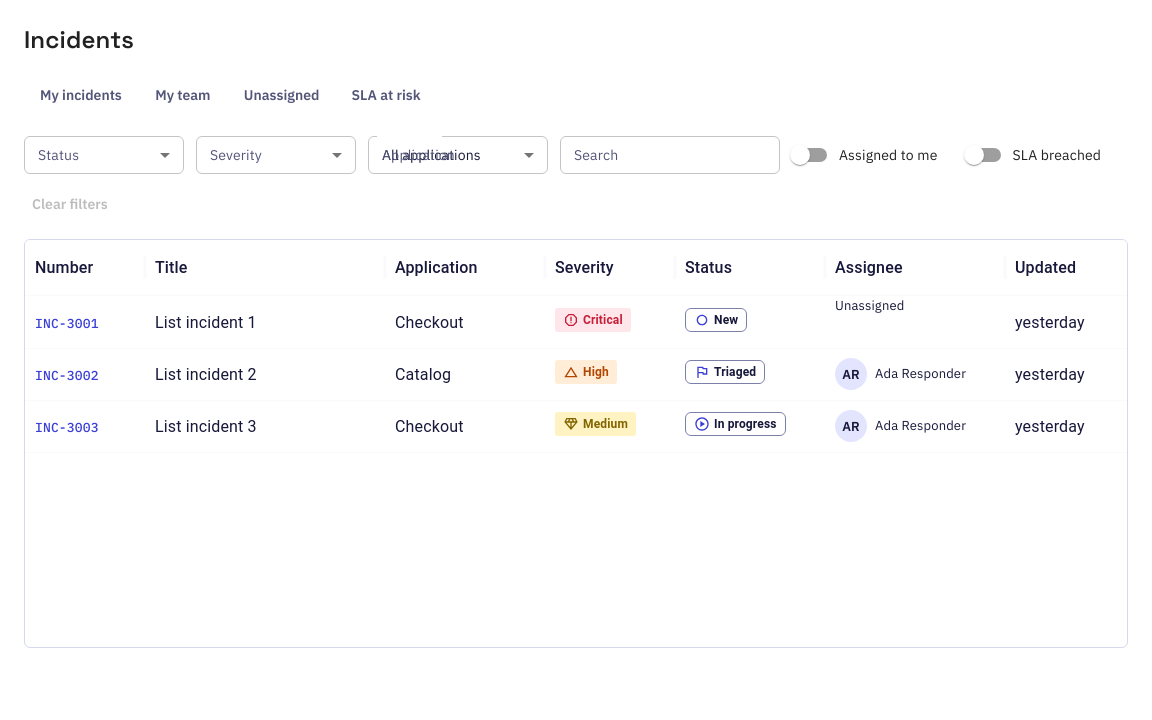
Scenario: FilterBar › retyping the same text right after Clear applies it again
The image size is (1152, 720).
Expected: the table named "Incidents" is shown, [25, 240, 1127, 646]
Step 1. Click the search field labelled "Search" → (670, 155), box [560, 136, 780, 174]
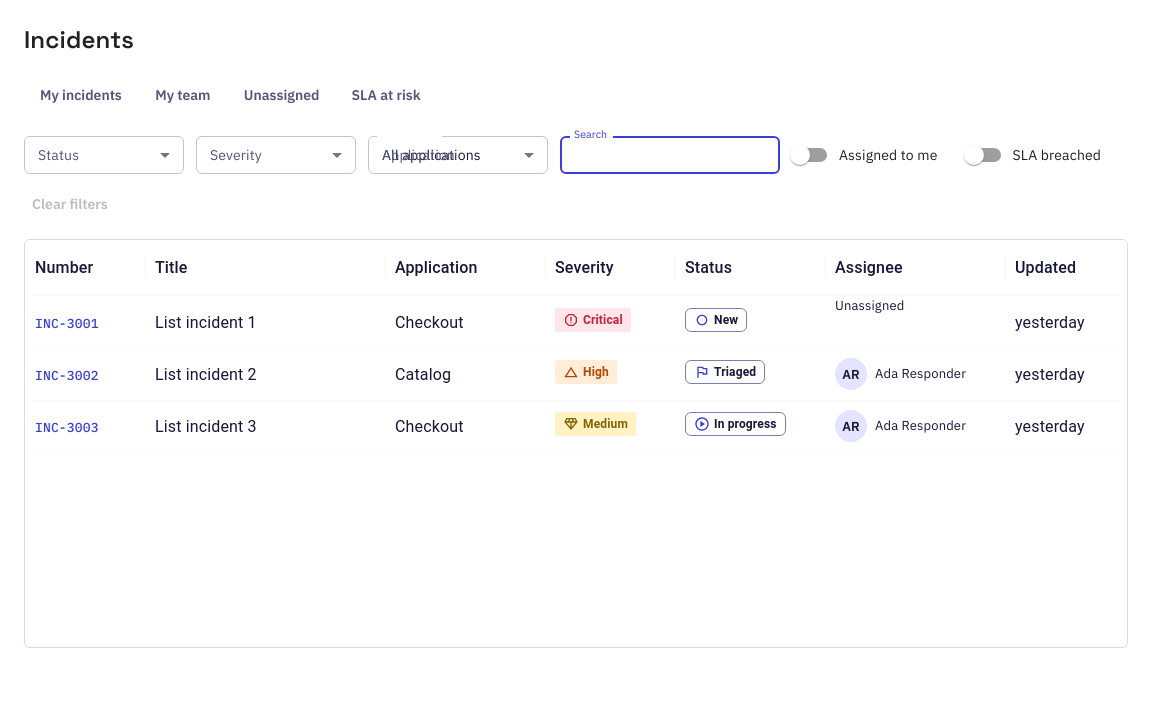
Step 2. Type keys "abc"
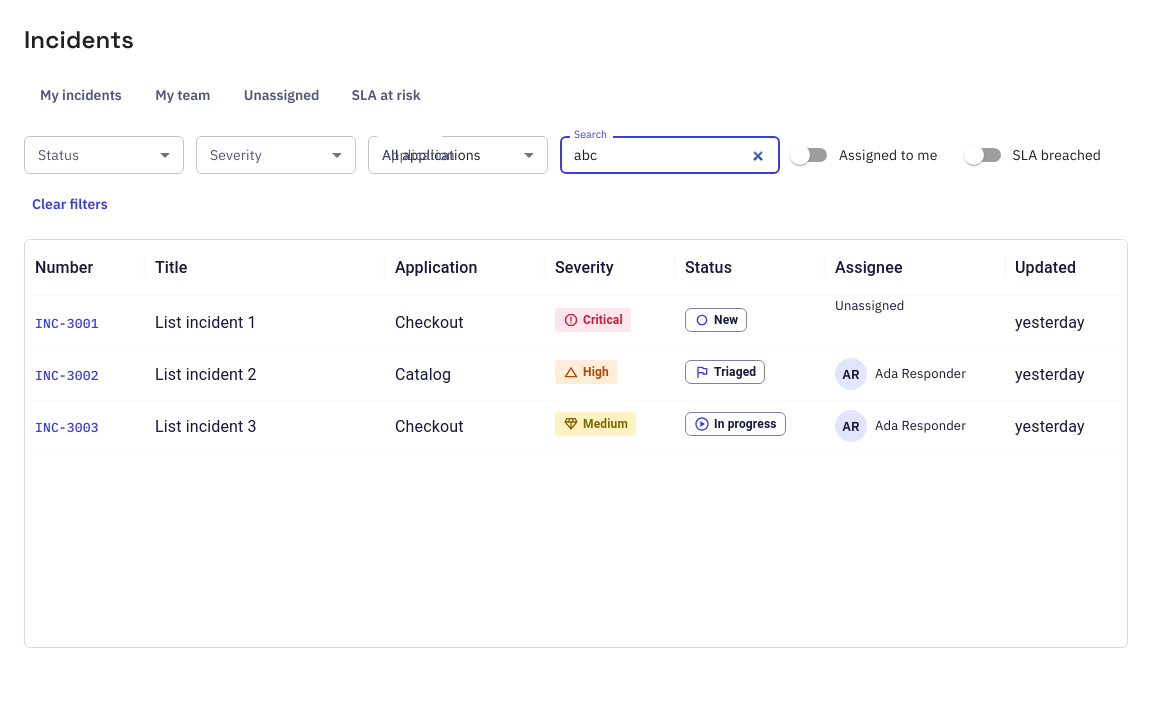
Step 3. Click the button "Clear filters" → (70, 204), box [24, 186, 116, 222]
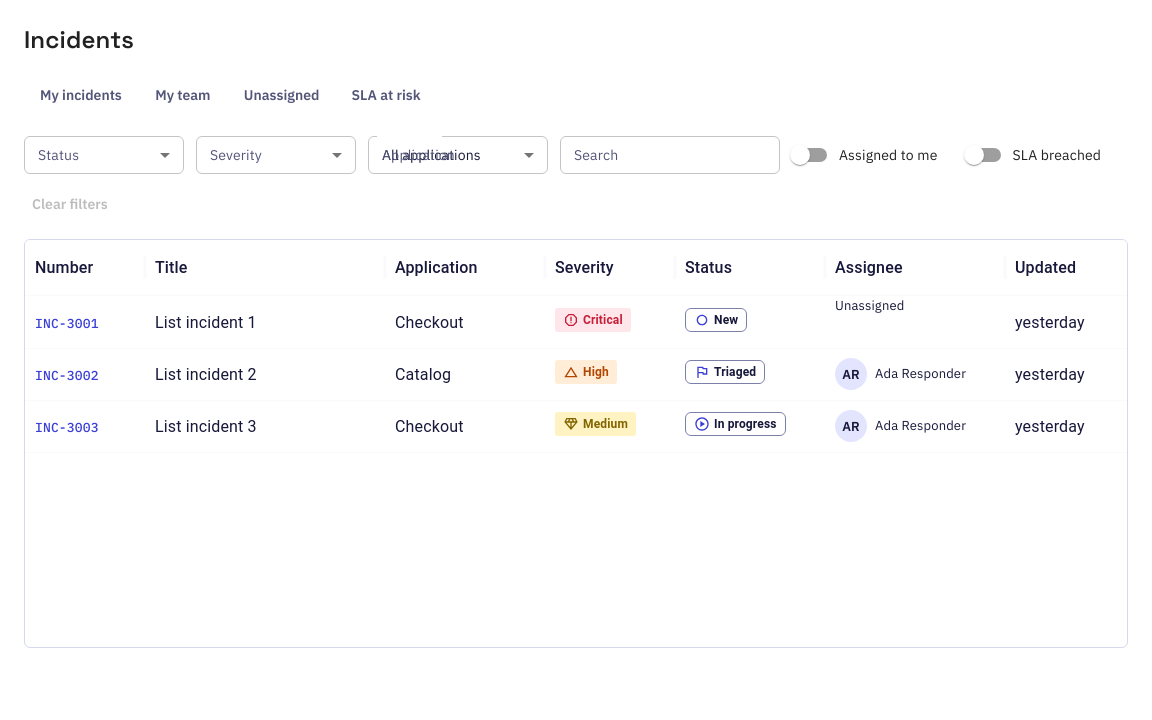
Step 4. Click the search field labelled "Search" → (670, 155), box [560, 136, 780, 174]
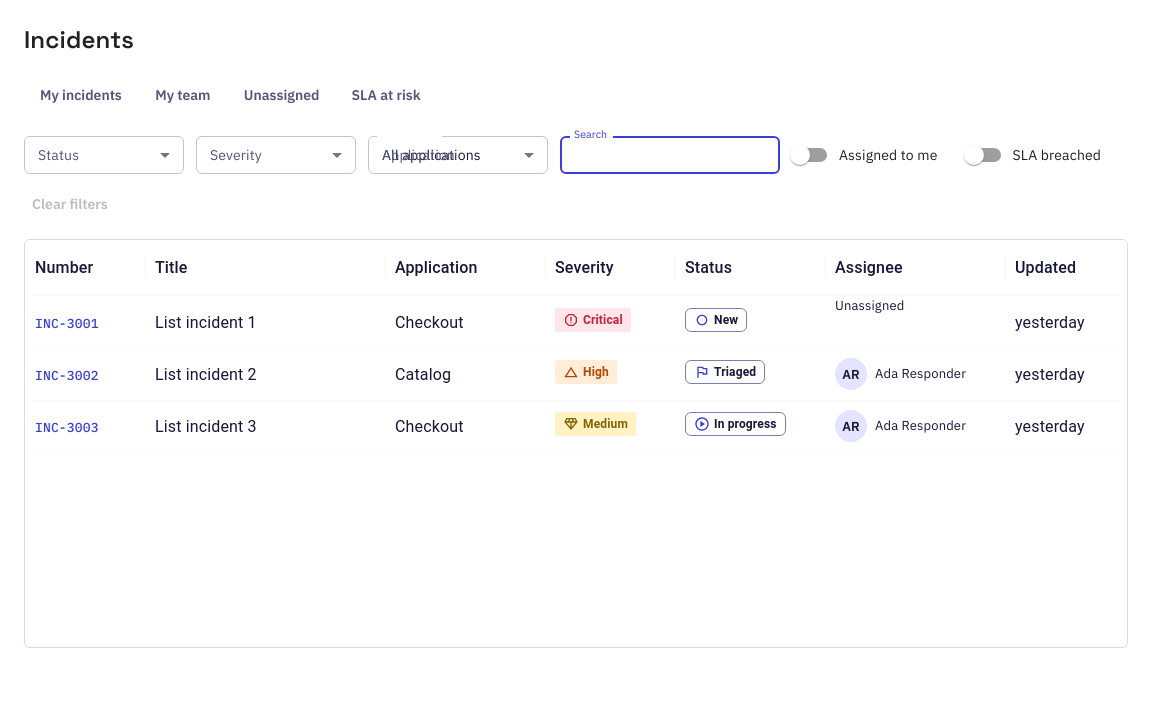
Step 5. Type keys "abc"
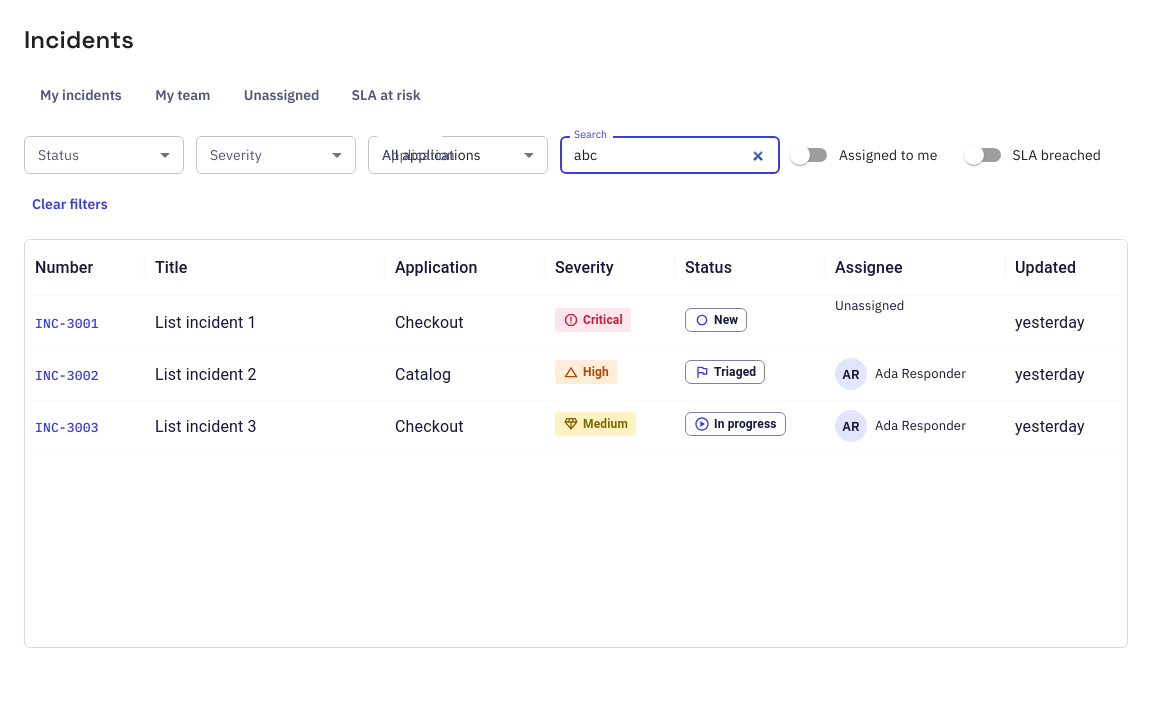
Expected: the search field labelled "Search" holds "abc", [560, 136, 780, 174]
